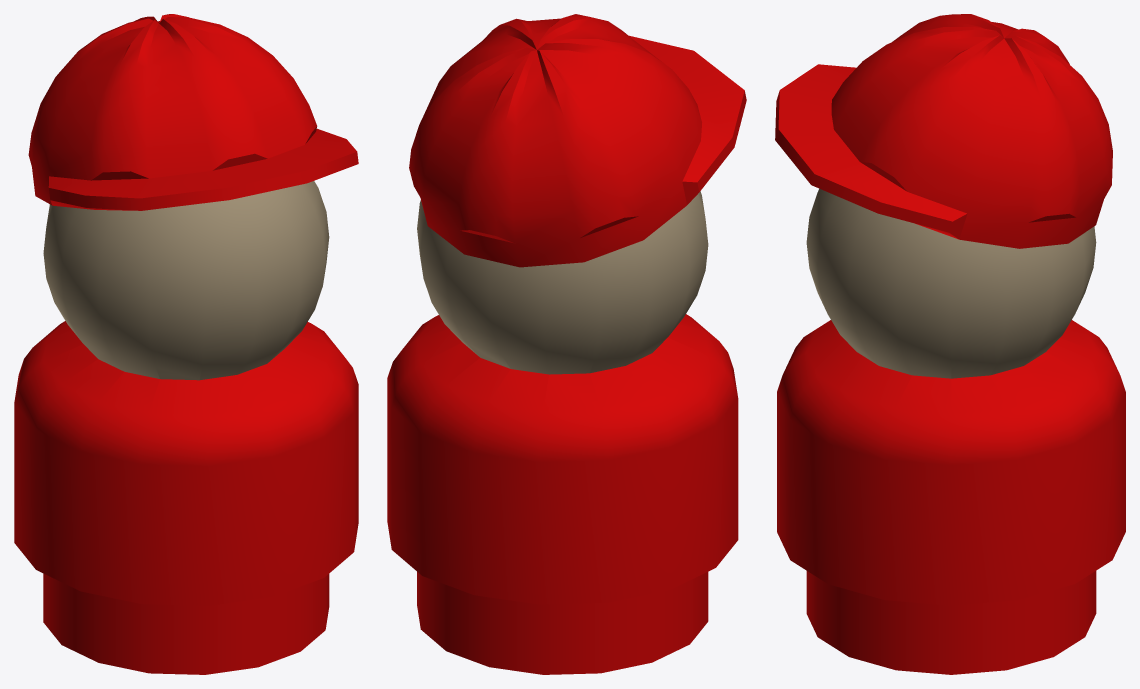
File: ToyPlayer3.fbx
3 views of the same model, side by side, from view 1: azimuth 30°, elevation 25°; view 2: azimuth 150°, elevation 25°; view 3: azimuth 270°, elevation 25° (orthographic).
Visible parts, largest first — view 1: ToyBody, Helmet; view 2: ToyBody, Helmet; view 3: ToyBody, Helmet.
Part boxes in pixels (x1=…): ToyBody: x1=14, y1=181, x2=358, y2=674; Helmet: x1=28, y1=14, x2=358, y2=210; ToyBody: x1=387, y1=191, x2=738, y2=674; Helmet: x1=409, y1=14, x2=746, y2=267; ToyBody: x1=777, y1=188, x2=1125, y2=674; Helmet: x1=775, y1=14, x2=1112, y2=248.
Bounding box in the file's own units: 422 × 780 × 424.
